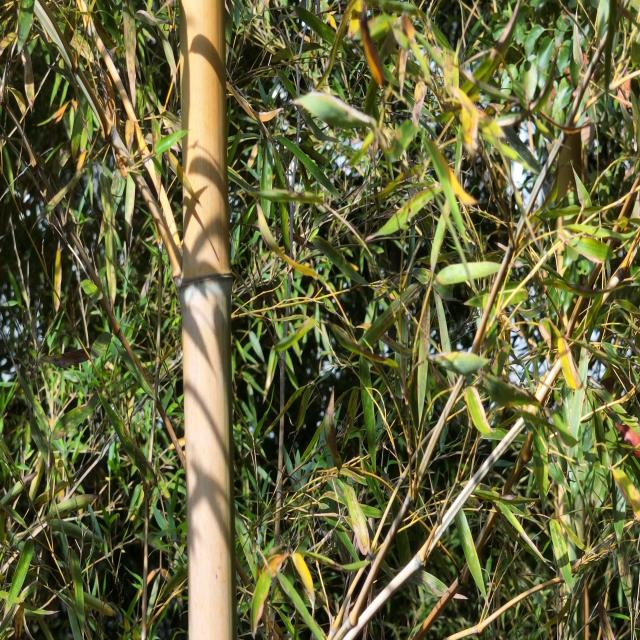Bamboo-shoots: (179, 0, 234, 640)
